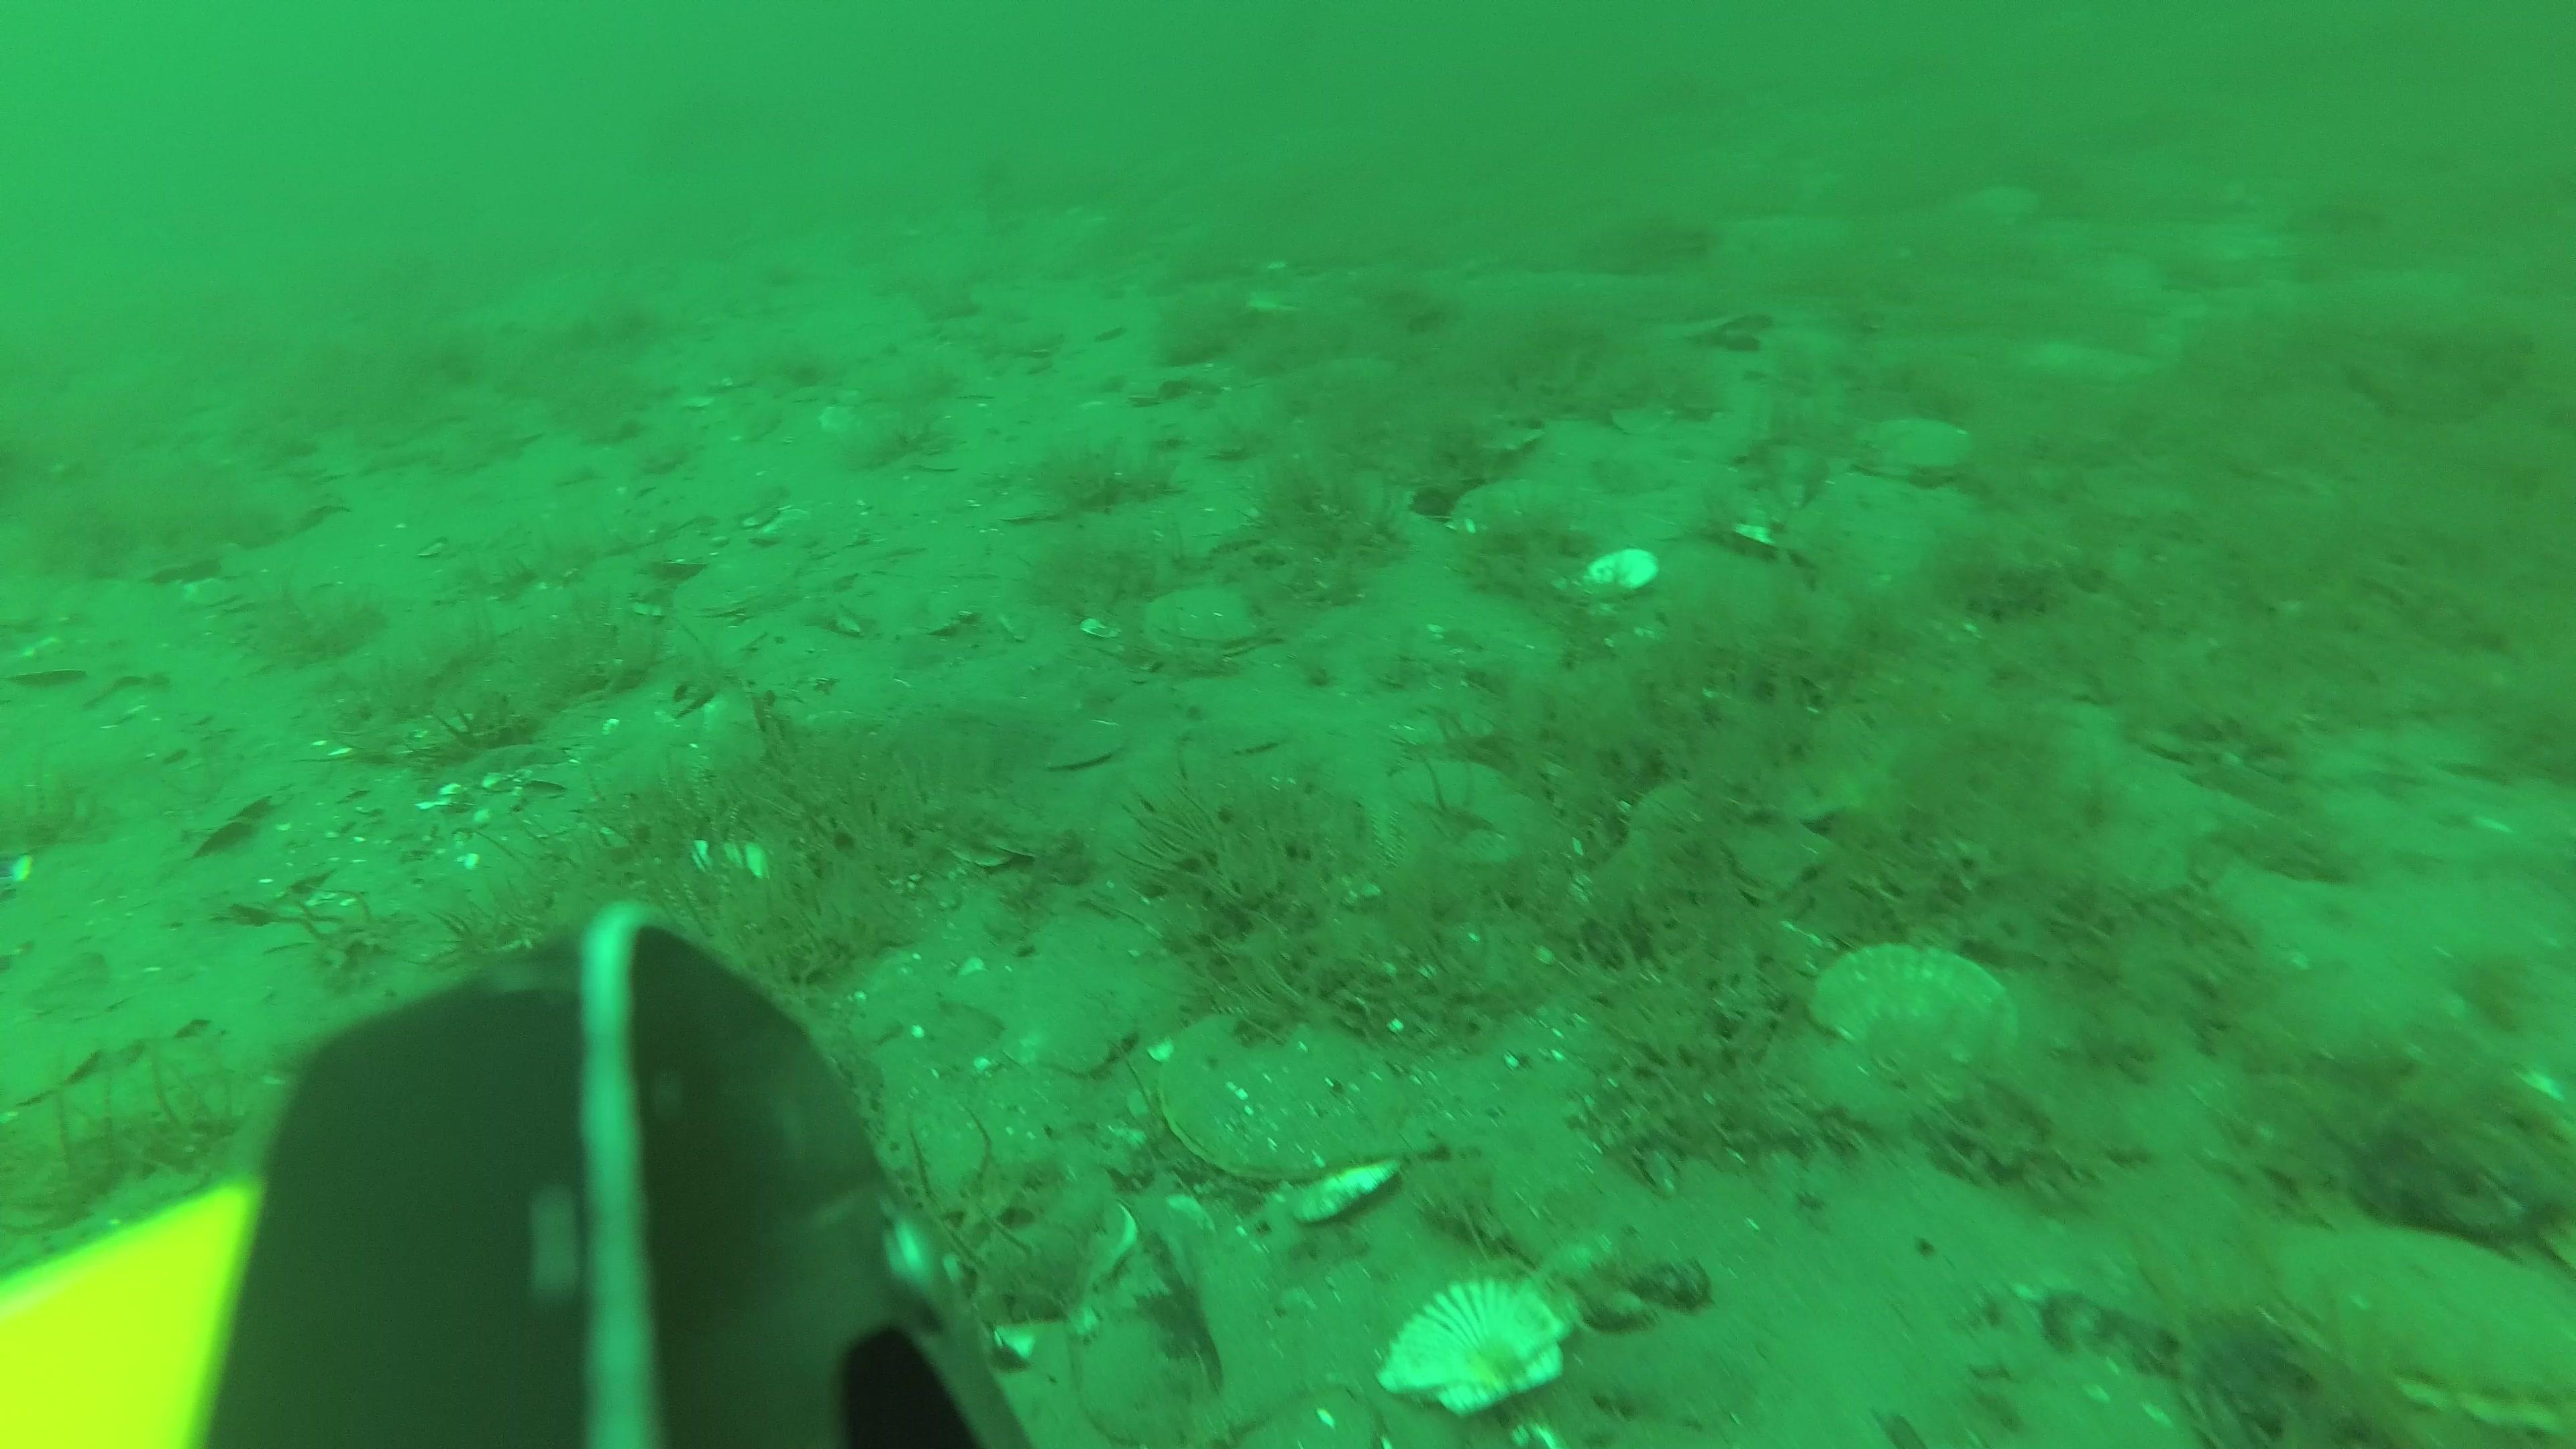scallop: (2265, 1203, 2576, 1449), (1154, 1001, 1417, 1189), (1810, 939, 2026, 1090), (1375, 1265, 1576, 1419), (1629, 777, 1838, 913), (1141, 579, 1284, 672), (1391, 389, 1550, 464), (672, 540, 809, 625), (1851, 409, 1987, 488), (1385, 757, 1513, 833), (1445, 469, 1568, 547), (1591, 441, 1693, 502), (1948, 177, 2045, 241), (1576, 534, 1667, 600), (1189, 724, 1300, 761)
